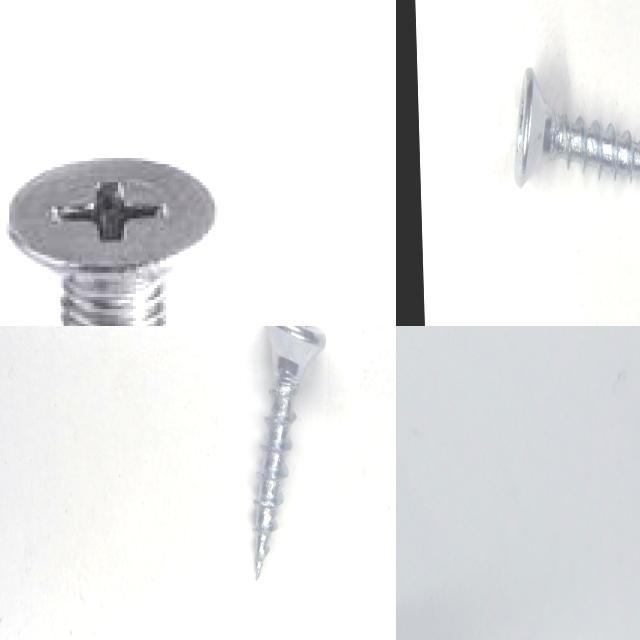Screw: (6, 158, 218, 326), (254, 326, 326, 579), (514, 67, 640, 187)
